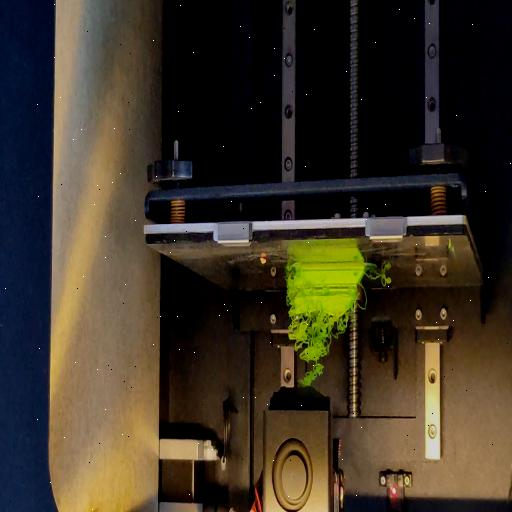spaghetti: (288, 314, 350, 386), (364, 266, 394, 286), (359, 283, 369, 310), (289, 266, 294, 275)
